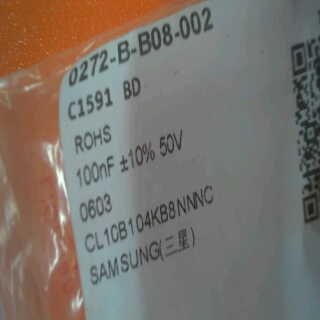100nF: (74, 153, 123, 190)
